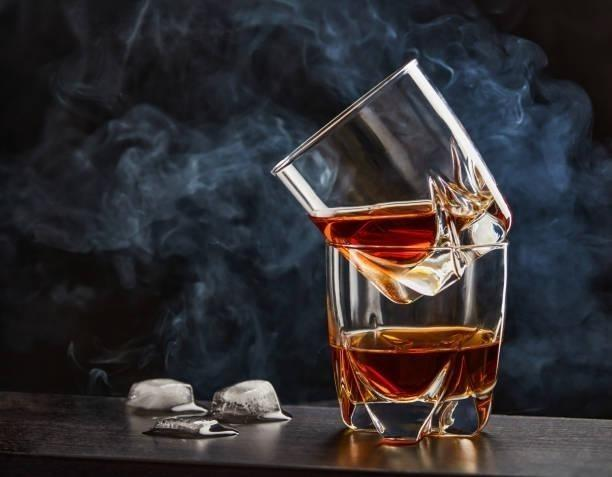glass-normal: (237, 53, 539, 238), (323, 232, 512, 443)
